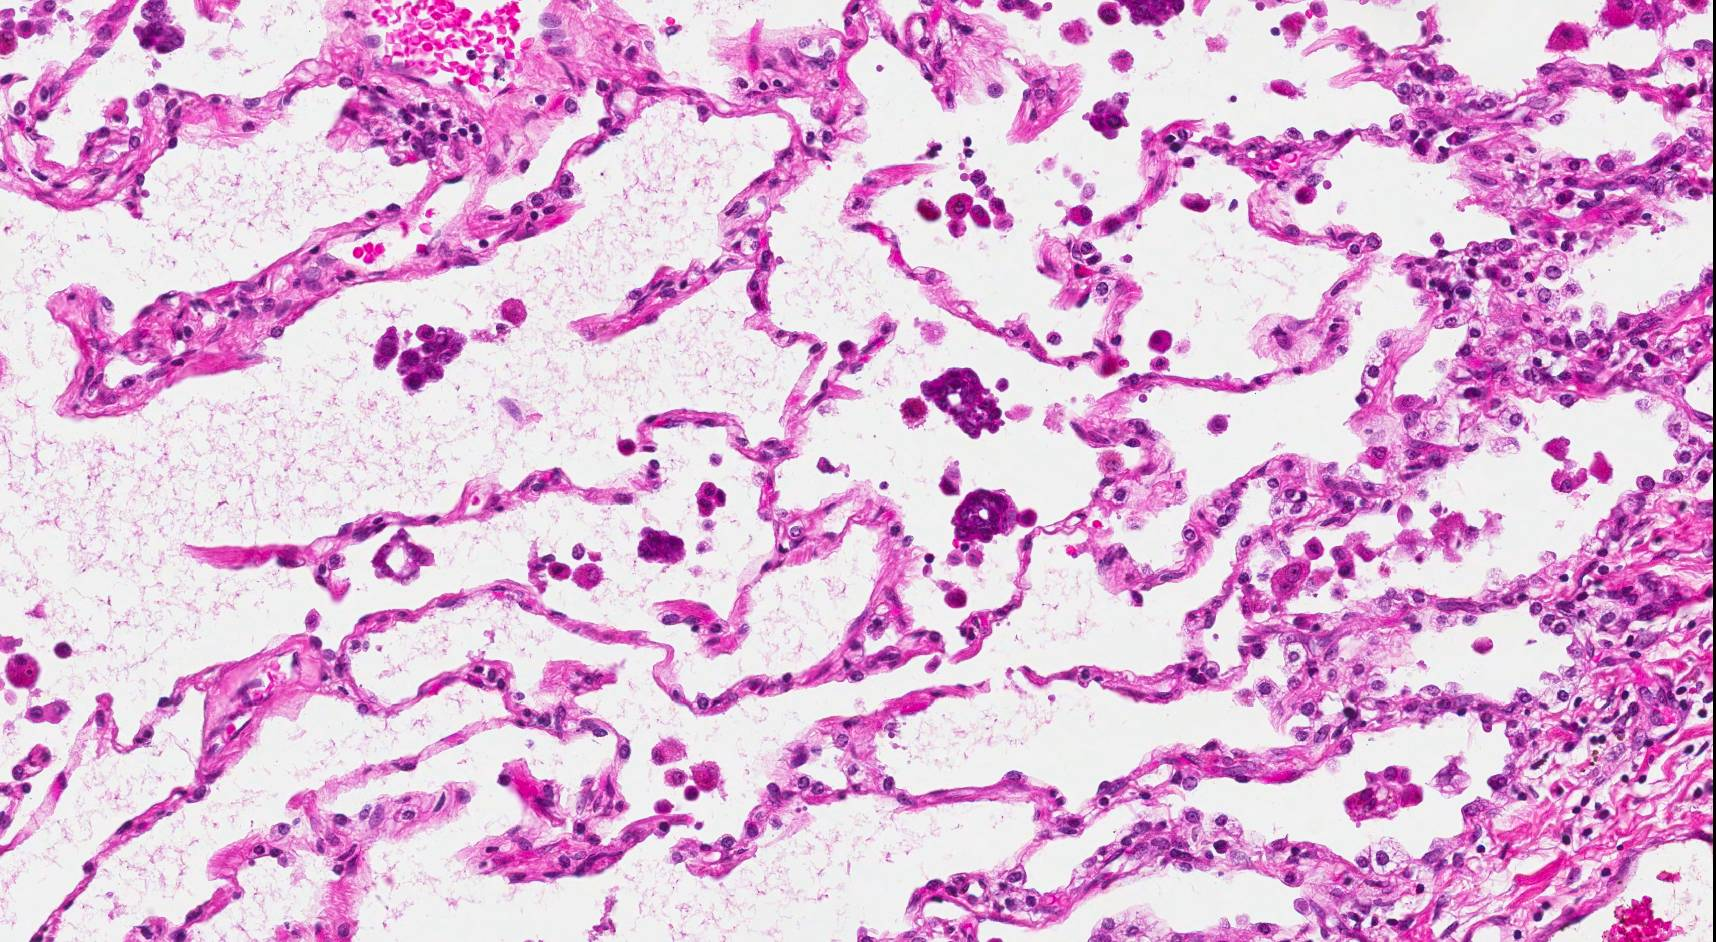stas: (374, 317, 474, 396), (918, 362, 1009, 436), (950, 485, 1027, 550), (1341, 762, 1423, 824), (372, 524, 441, 591), (1077, 89, 1138, 144), (133, 1, 194, 54), (633, 524, 689, 563), (691, 480, 732, 521)
